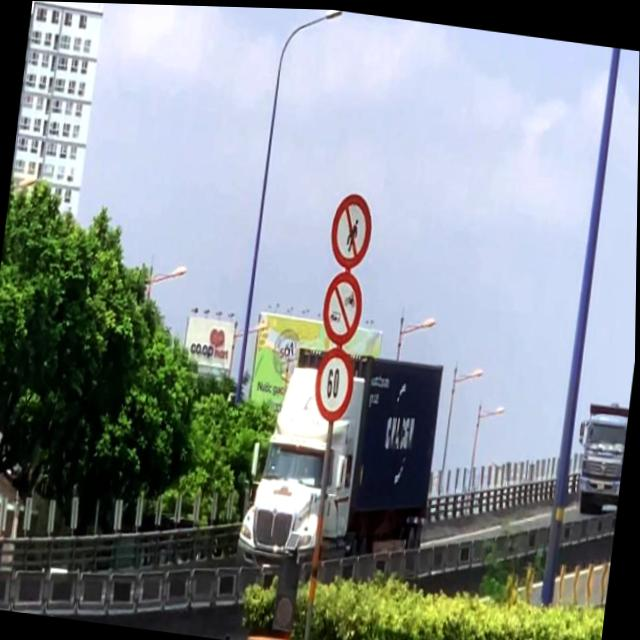Toc do toi da cho phep: (312, 342, 359, 423)
